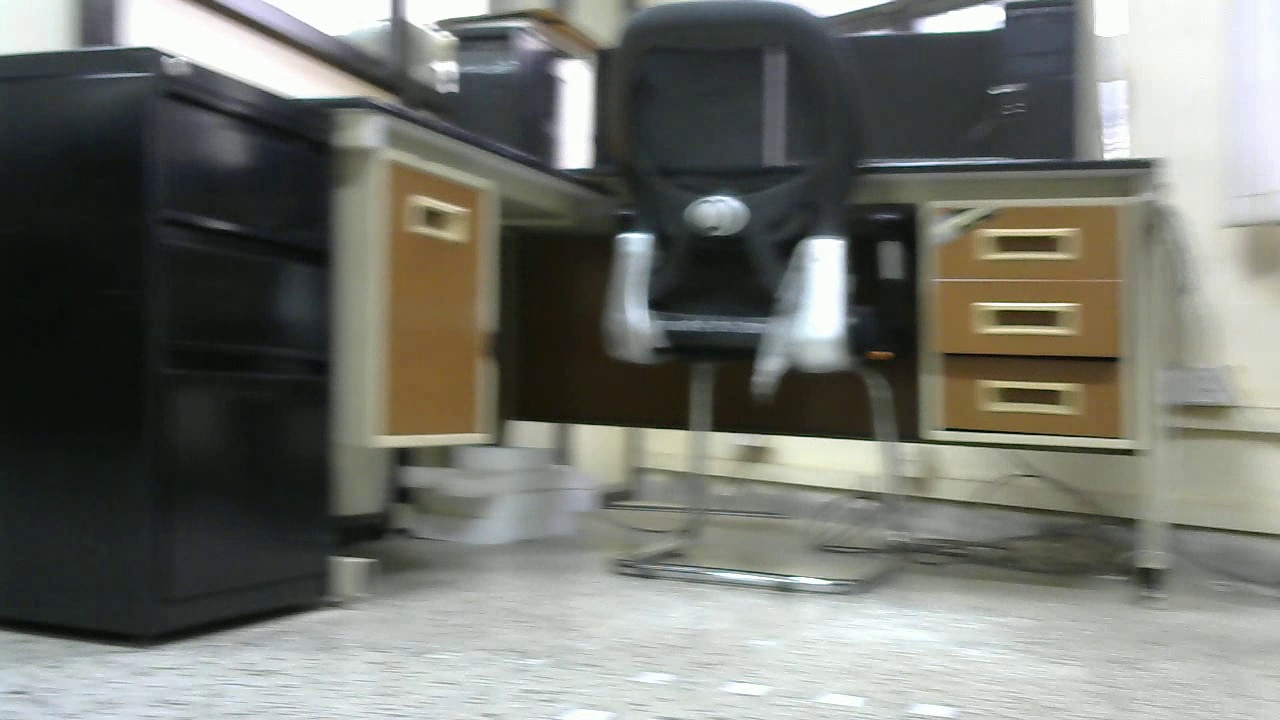chair: (605, 1, 915, 594)
